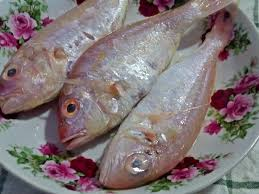Ikan Kerisi: (105, 20, 243, 194), (52, 29, 134, 158), (1, 1, 62, 121)
